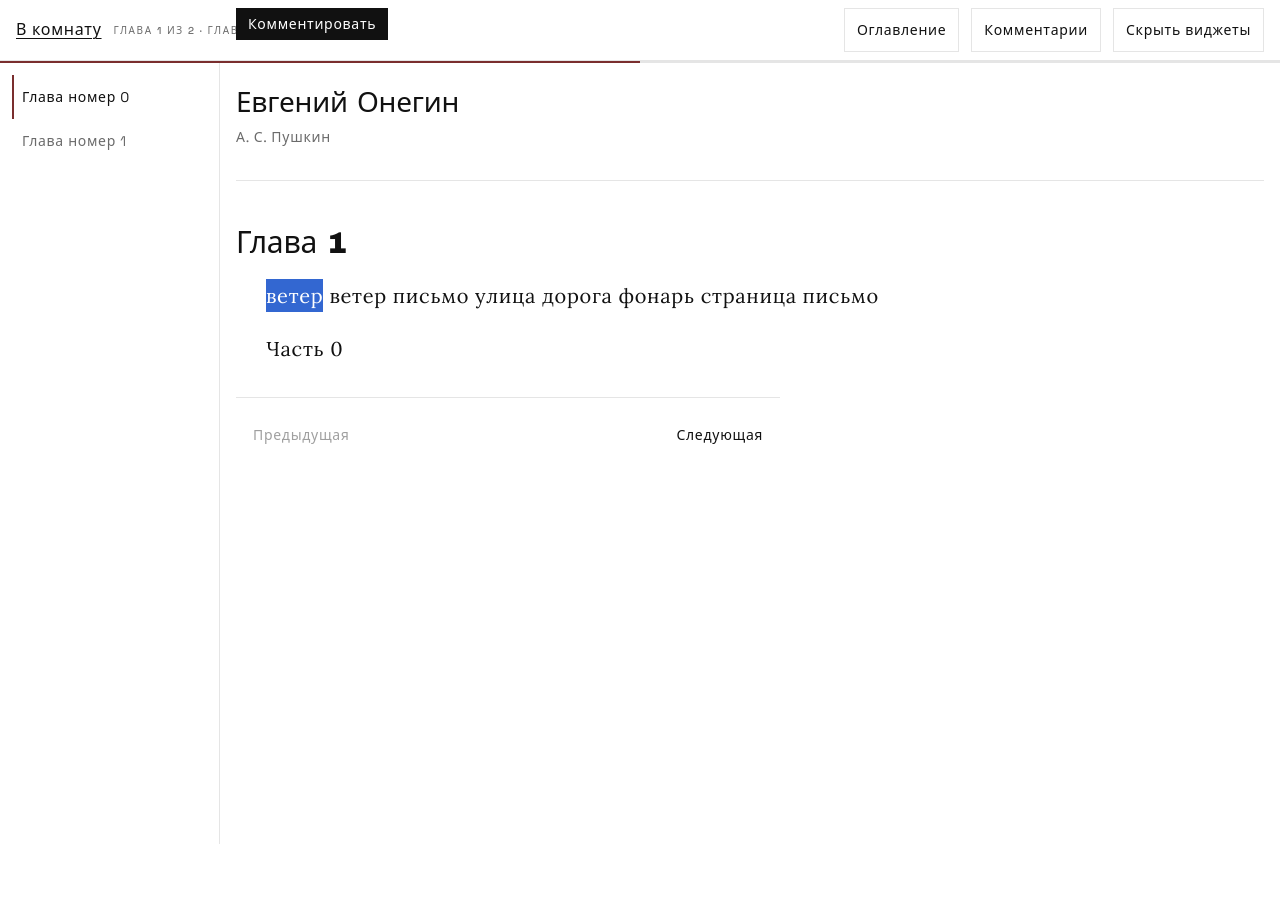
Test: создание комментария целиком › после отправки форма чистая, а не в состоянии ошибки
Expected: the text "ветер ветер письмо улица дорога фонарь страница письмо" is shown, [236,279,916,312]
Click the button "Комментировать" at coordinates (312, 24), box [236,8,388,40]
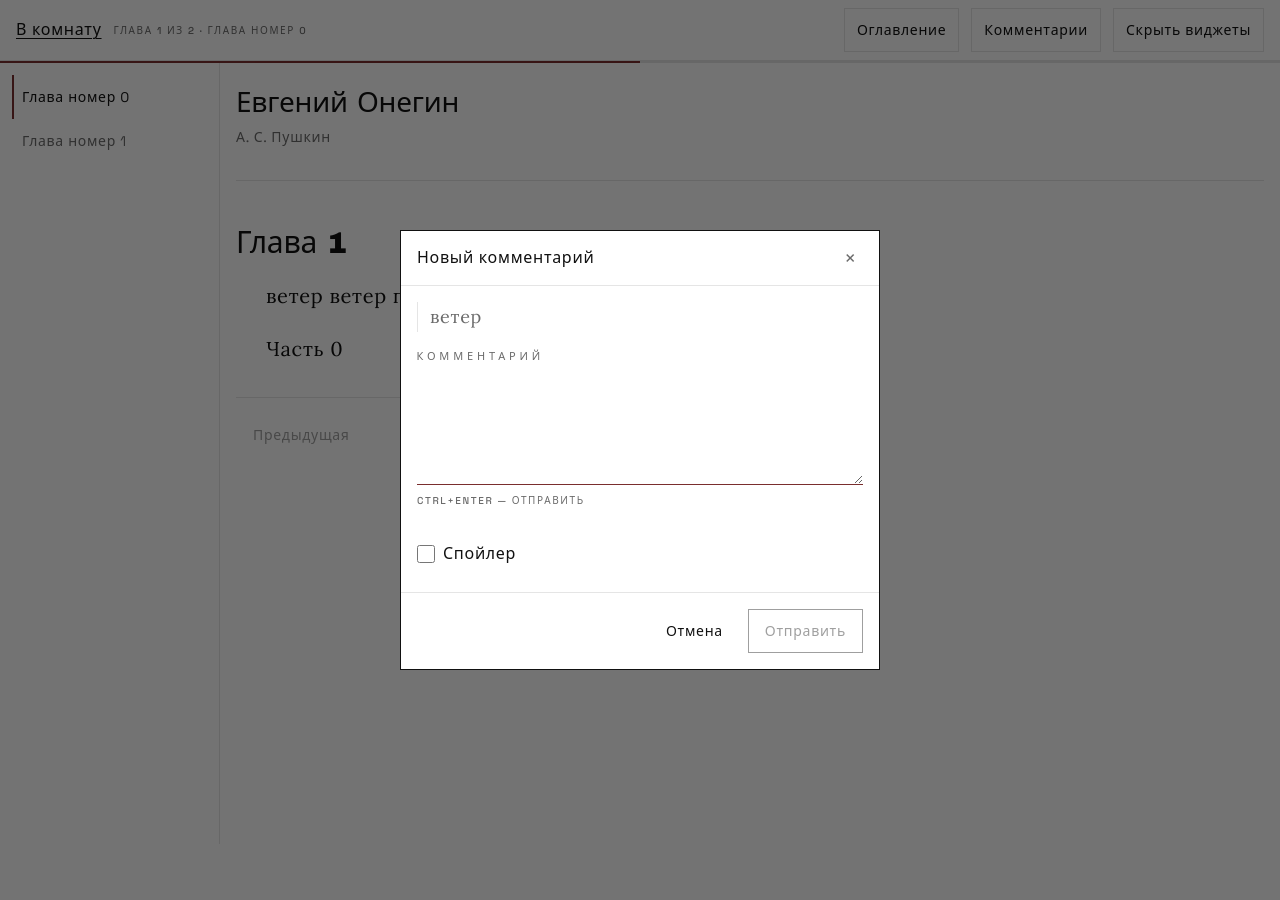
Type "Один раз" into the text box labelled "Комментарий" at coordinates (640, 429), box [417,372,863,485]
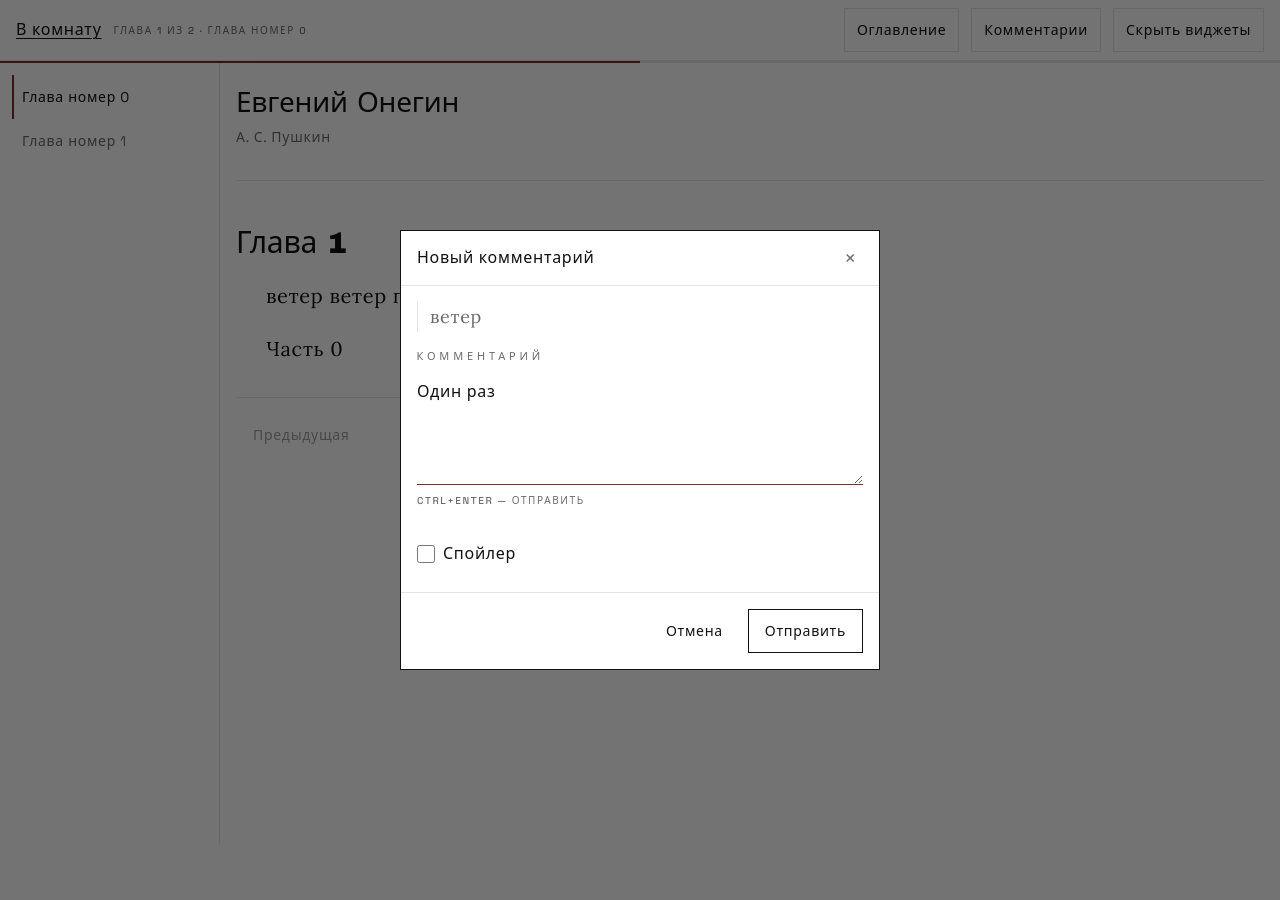
Click the button "Отправить" at coordinates (805, 631), box [748,609,863,653]
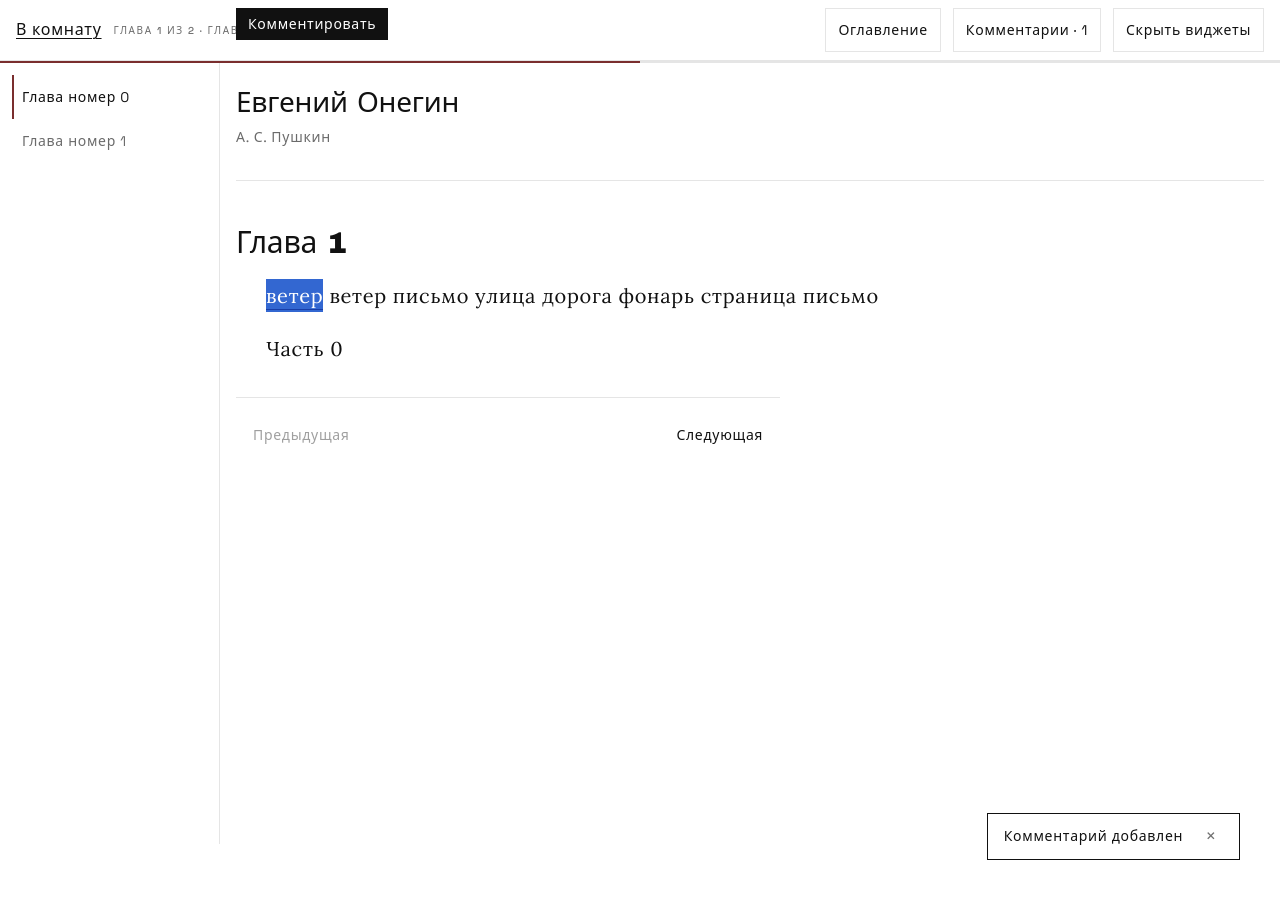
Expected: the dialog is gone
Click the button "Комментировать" at coordinates (312, 24), box [236,8,388,40]
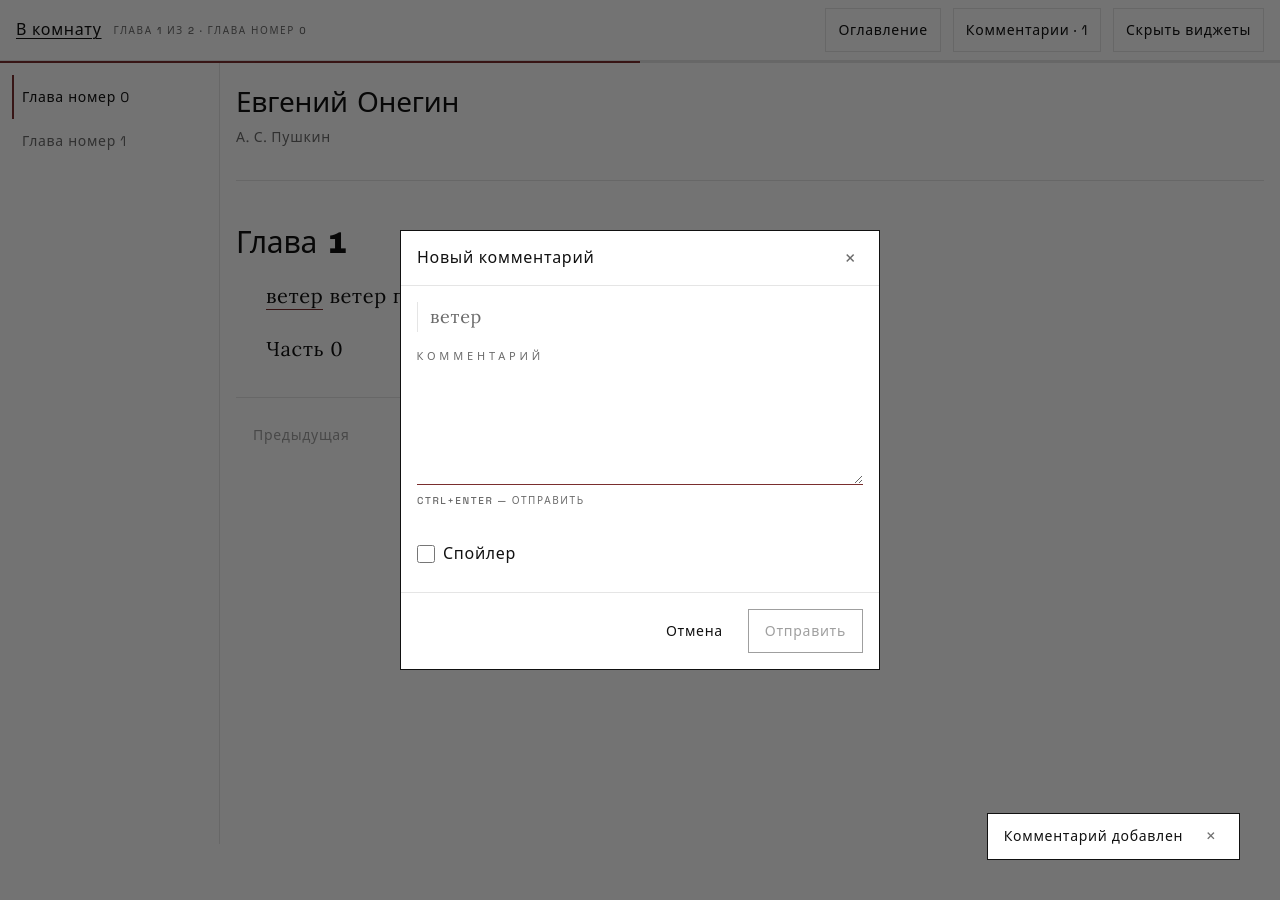
Expected: the text box labelled "Комментарий" is empty, [417,372,863,485]
Expected: the button "Отправить" is disabled, [748,609,863,653]
